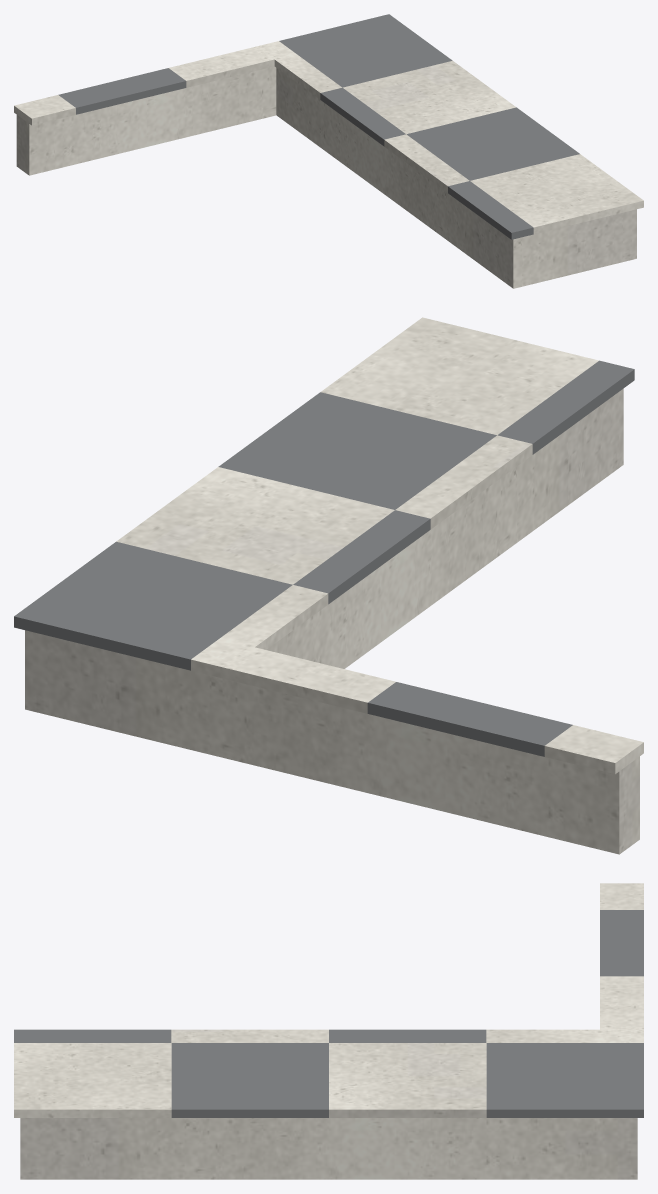
The model's file is floor_marble_u_e1000.glb.
3 views of the same model, one above another, from view 1: azimuth 30°, elevation 25°; view 2: azimuth 150°, elevation 25°; view 3: azimuth 270°, elevation 25° (orthographic). The views are drawn at different scales.
Parts seen in each view (by area): view 1: floor_marble_u_e1000_plaster, floor_marble_u_e1000_marble, floor_marble_u_e1000_slate; view 2: floor_marble_u_e1000_plaster, floor_marble_u_e1000_slate, floor_marble_u_e1000_marble; view 3: floor_marble_u_e1000_plaster, floor_marble_u_e1000_marble, floor_marble_u_e1000_slate.
Boxes of the visible parts, x1,y1,x2,y2 form: floor_marble_u_e1000_plaster: (16,66,636,288); floor_marble_u_e1000_marble: (14,41,643,234); floor_marble_u_e1000_slate: (58,14,579,239); floor_marble_u_e1000_plaster: (25,388,639,854); floor_marble_u_e1000_slate: (14,360,634,756); floor_marble_u_e1000_marble: (116,317,643,774); floor_marble_u_e1000_plaster: (20,1118,637,1179); floor_marble_u_e1000_marble: (14,883,643,1117); floor_marble_u_e1000_slate: (14,910,643,1117).
Bounding box in the file's own units: 1.7 × 0.255 × 2.
Materials: 3 (2 with a texture image).
